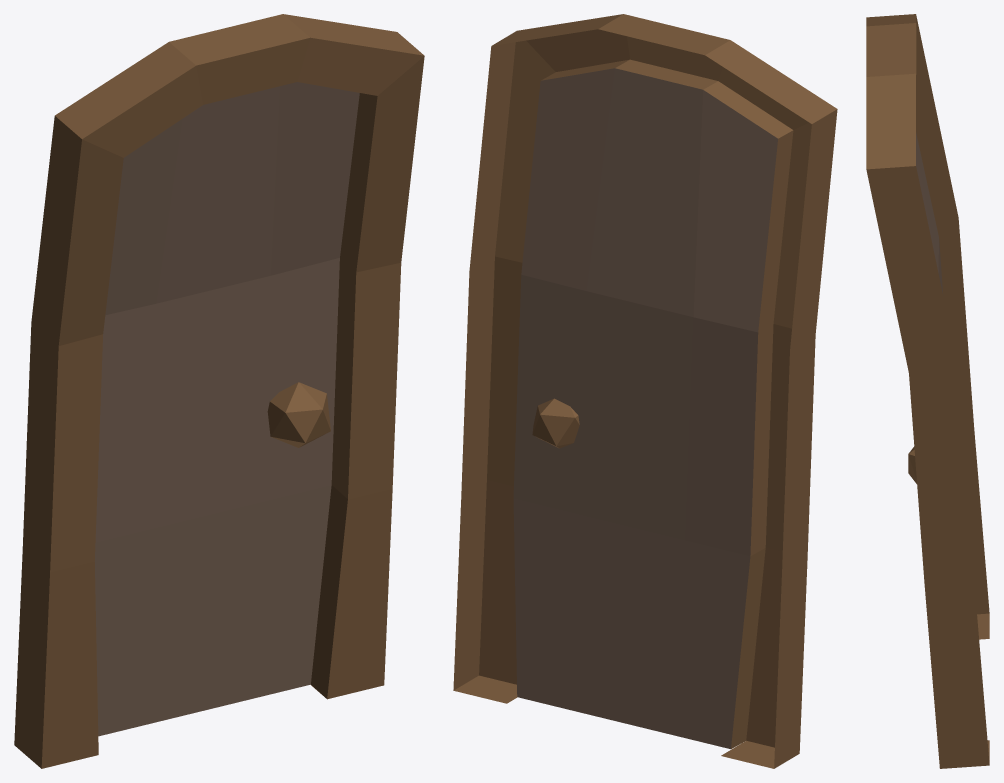
The model's file is Door.fbx.
3 views of the same model, side by side, from view 1: azimuth 30°, elevation 25°; view 2: azimuth 150°, elevation 25°; view 3: azimuth 270°, elevation 25° (orthographic). The views are drawn at different scales.
Parts seen in each view (by area): view 1: Door; view 2: Door; view 3: Door.
Part boxes in pixels (x1,y1,x2,y2): Door: [14, 14, 424, 768]; Door: [453, 14, 837, 768]; Door: [866, 14, 989, 768].
Size of the model in its own units: 116 by 229 by 39.68.
